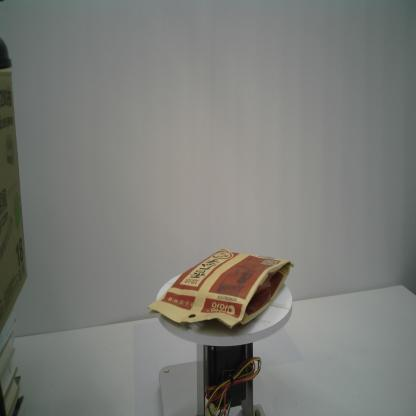Dried Food: (146, 247, 294, 329)
